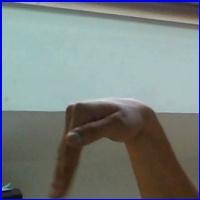A: (37, 94, 160, 199)
